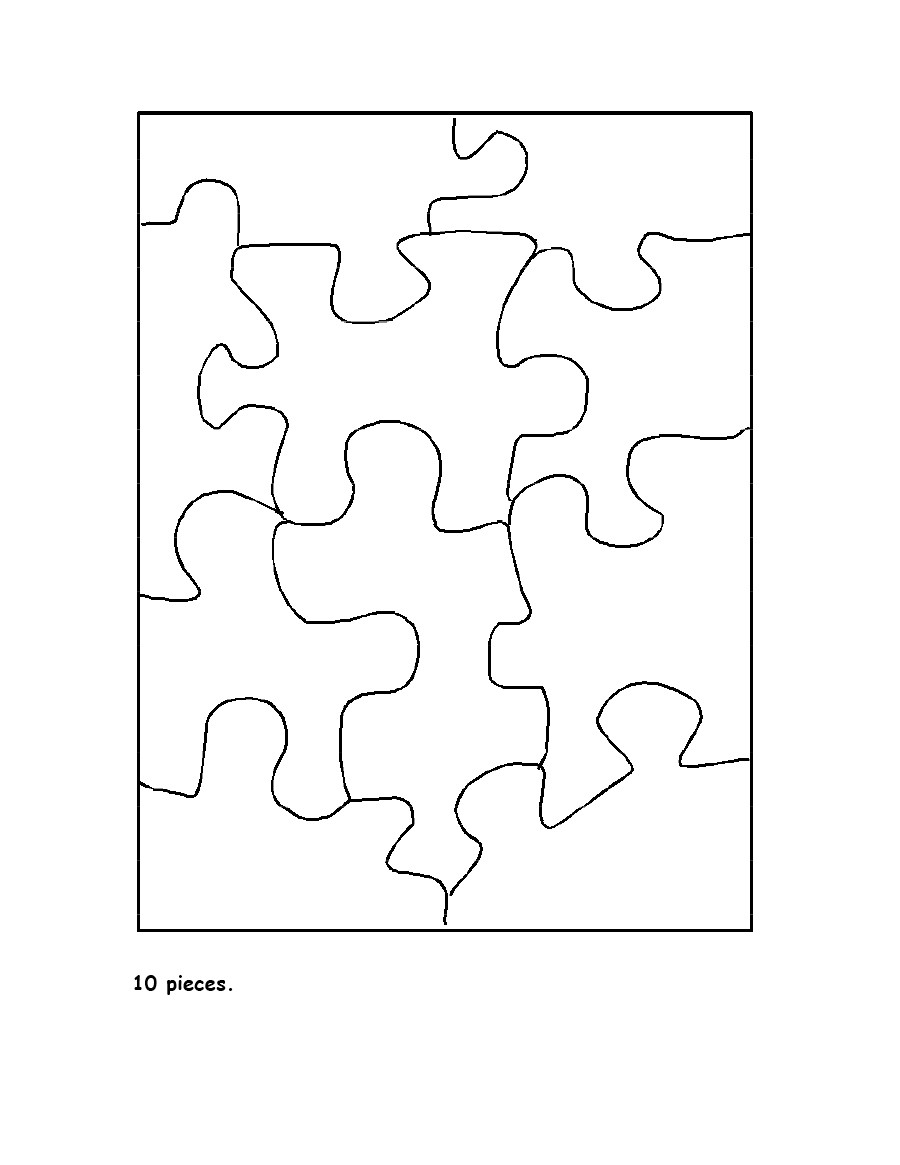puzzle piece: (177, 214, 597, 540)
